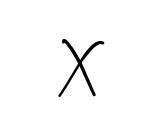mult: (59, 39, 105, 97)
